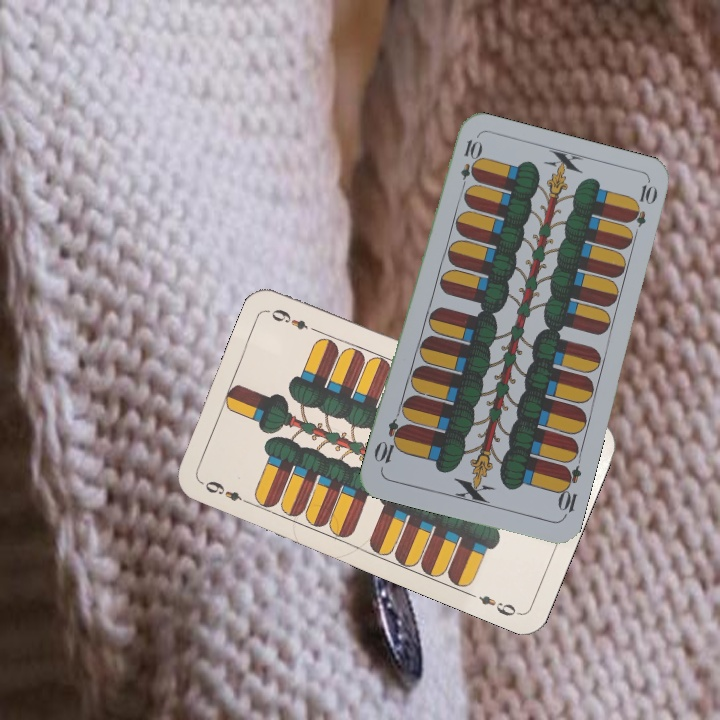E10: (553, 462, 584, 521), (456, 135, 482, 194)
E9: (197, 477, 253, 507)
